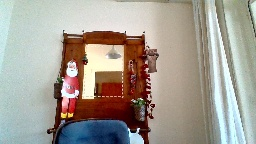Pugno: (145, 47, 159, 60)
